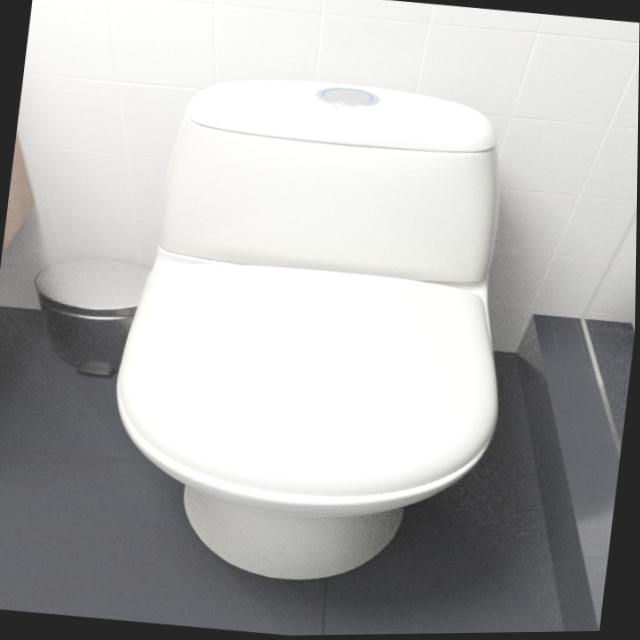toilet: (93, 61, 536, 602)
